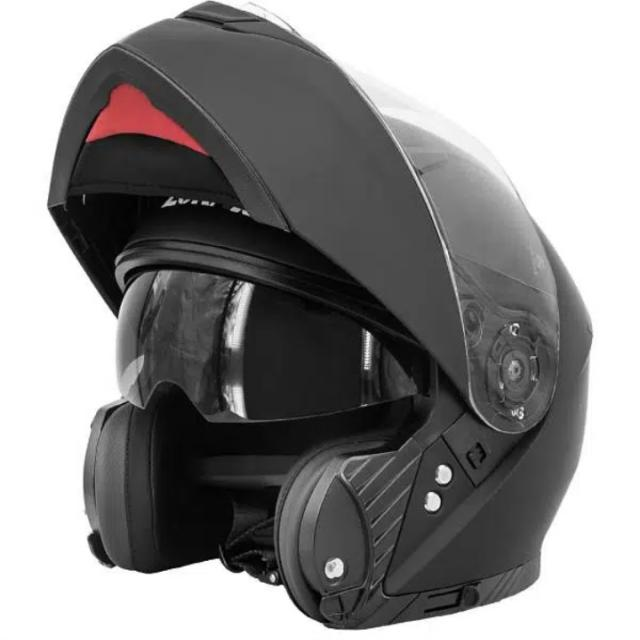Helmet: (50, 0, 585, 621)
